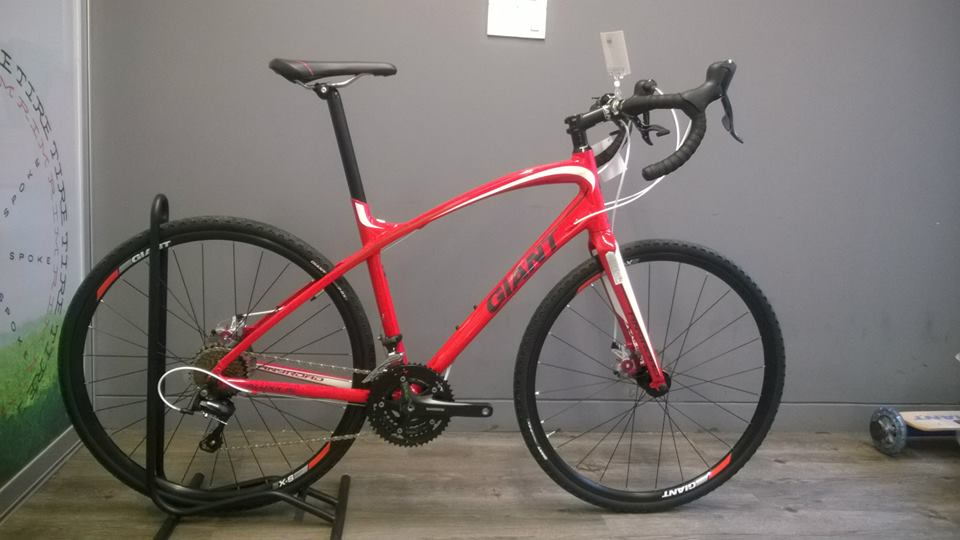bicycle: (47, 16, 797, 539)
